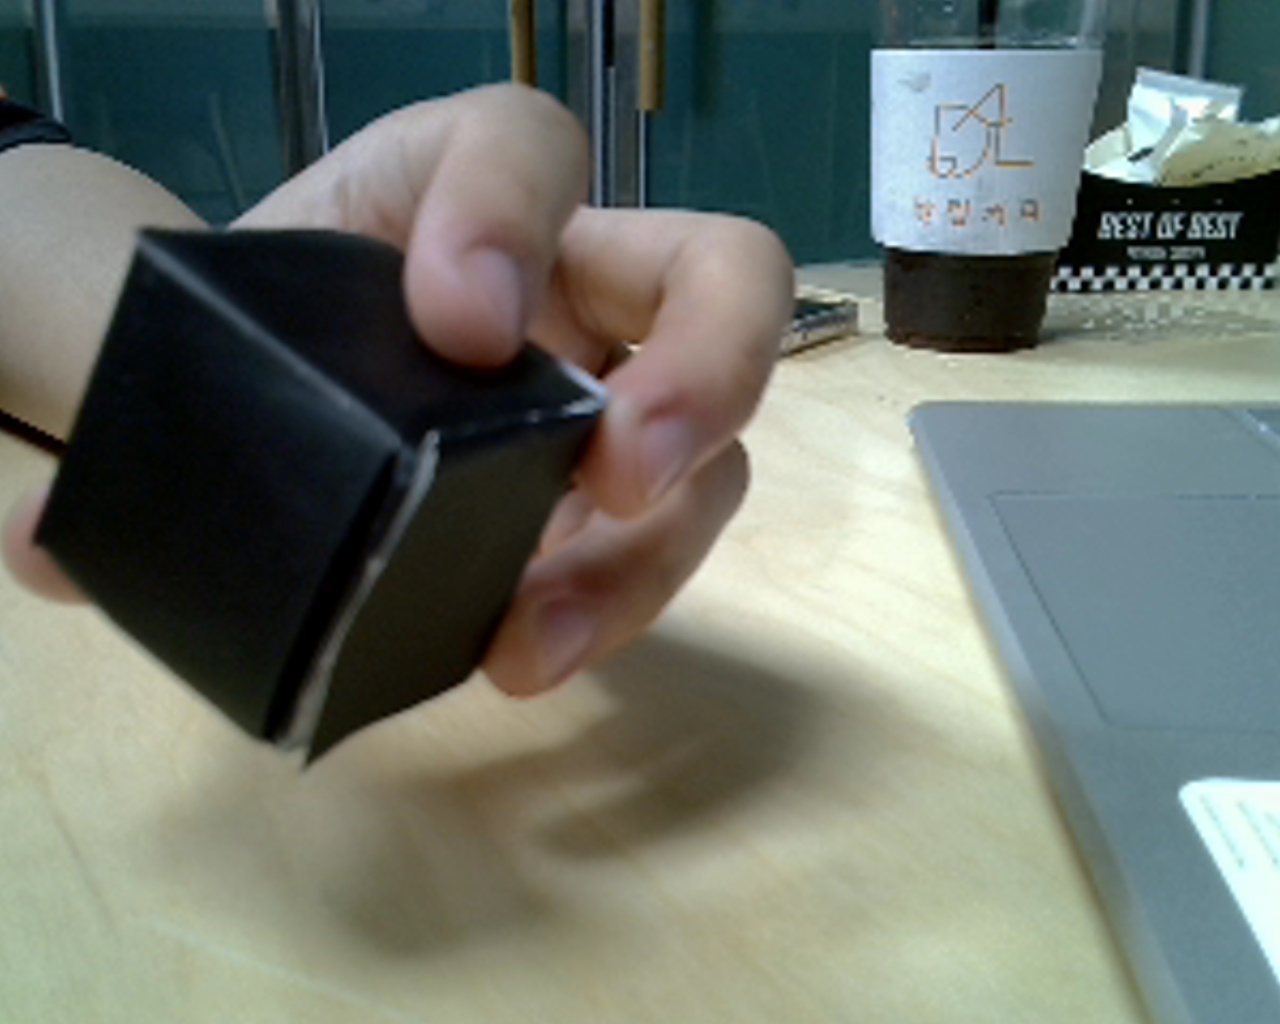blackbox: (16, 168, 664, 794)
